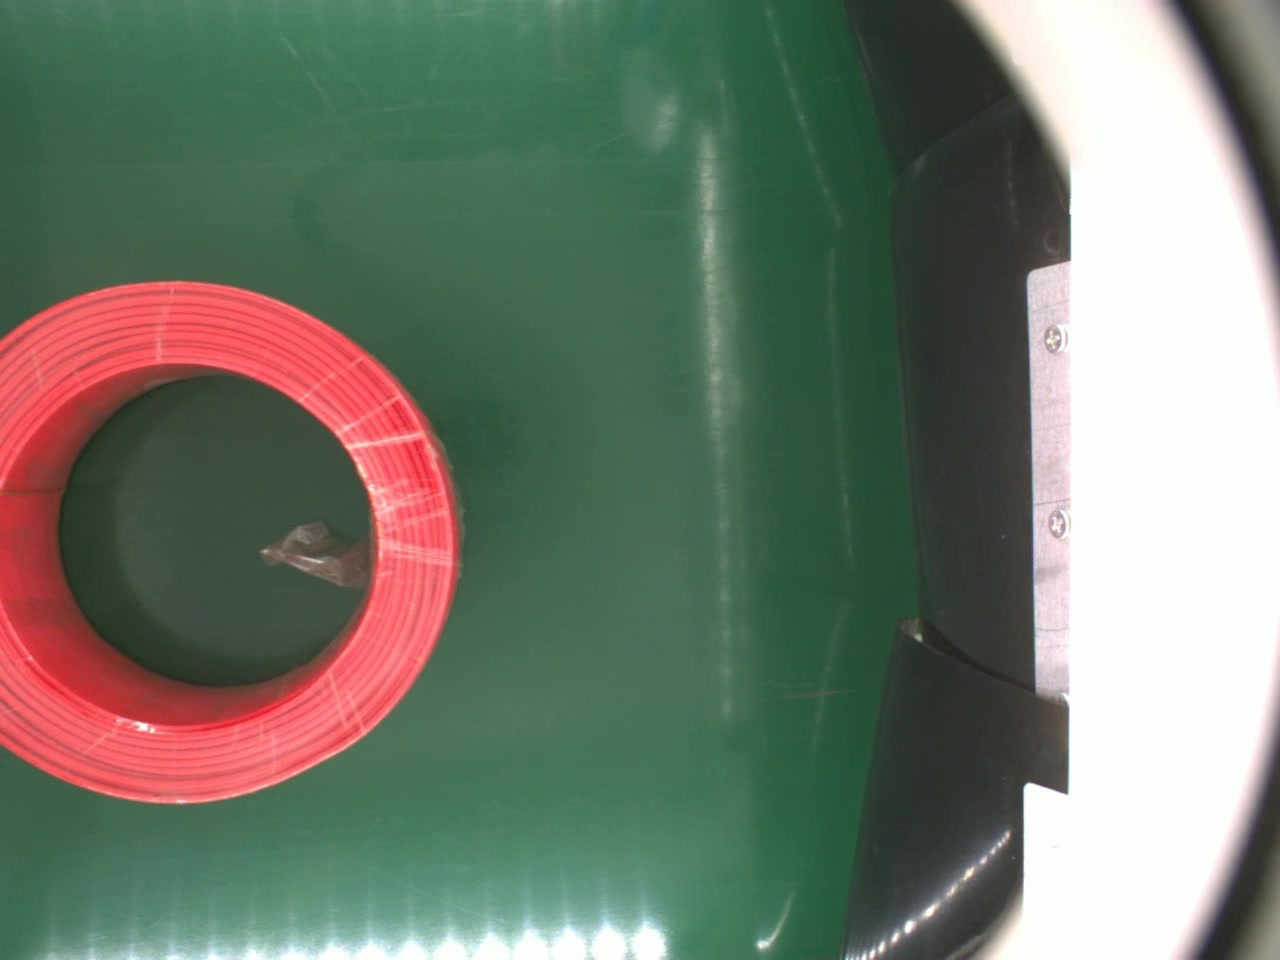red: (0, 276, 464, 810)
